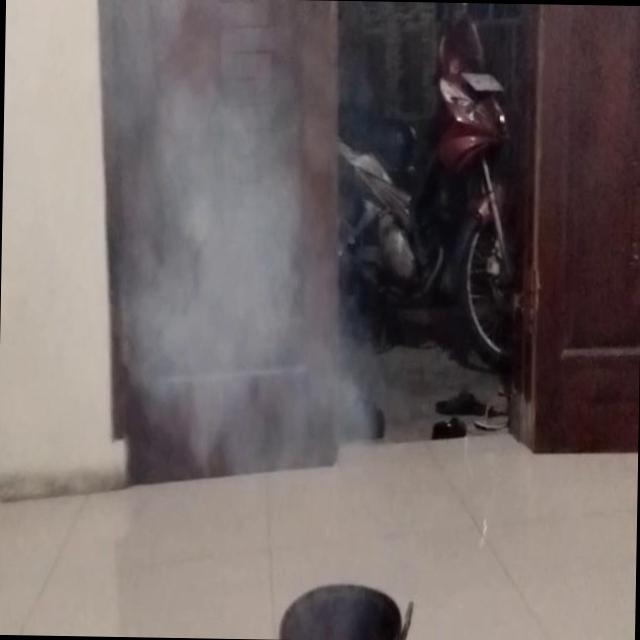smoke: (47, 0, 374, 316), (78, 316, 442, 570)
